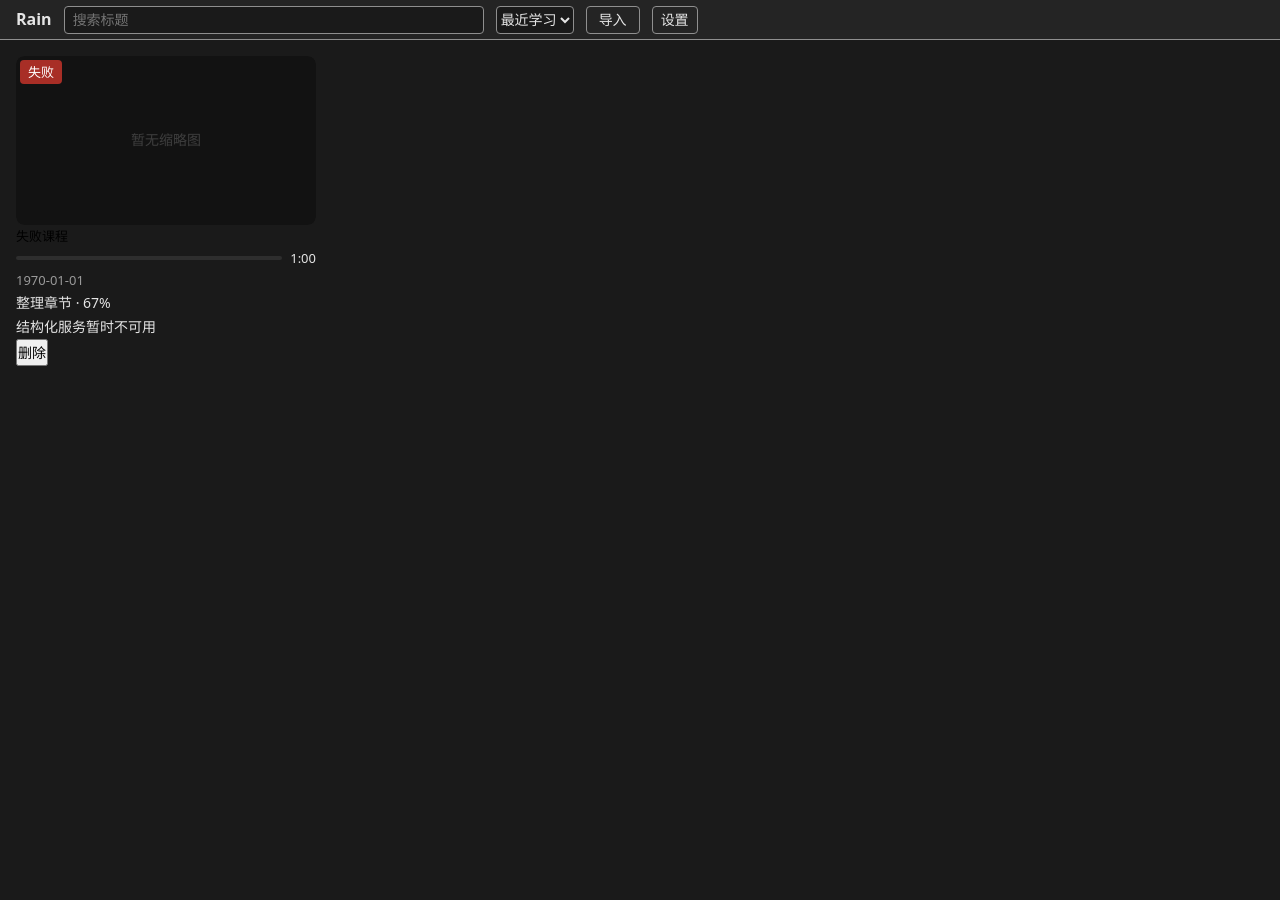
Scenario: AC-LV-19 and AC-LV-20 import task details › opens a failed task without retrying it or changing its persisted failure
Step 1. Click the text "失败课程" → (42, 236), box [16, 227, 68, 245]
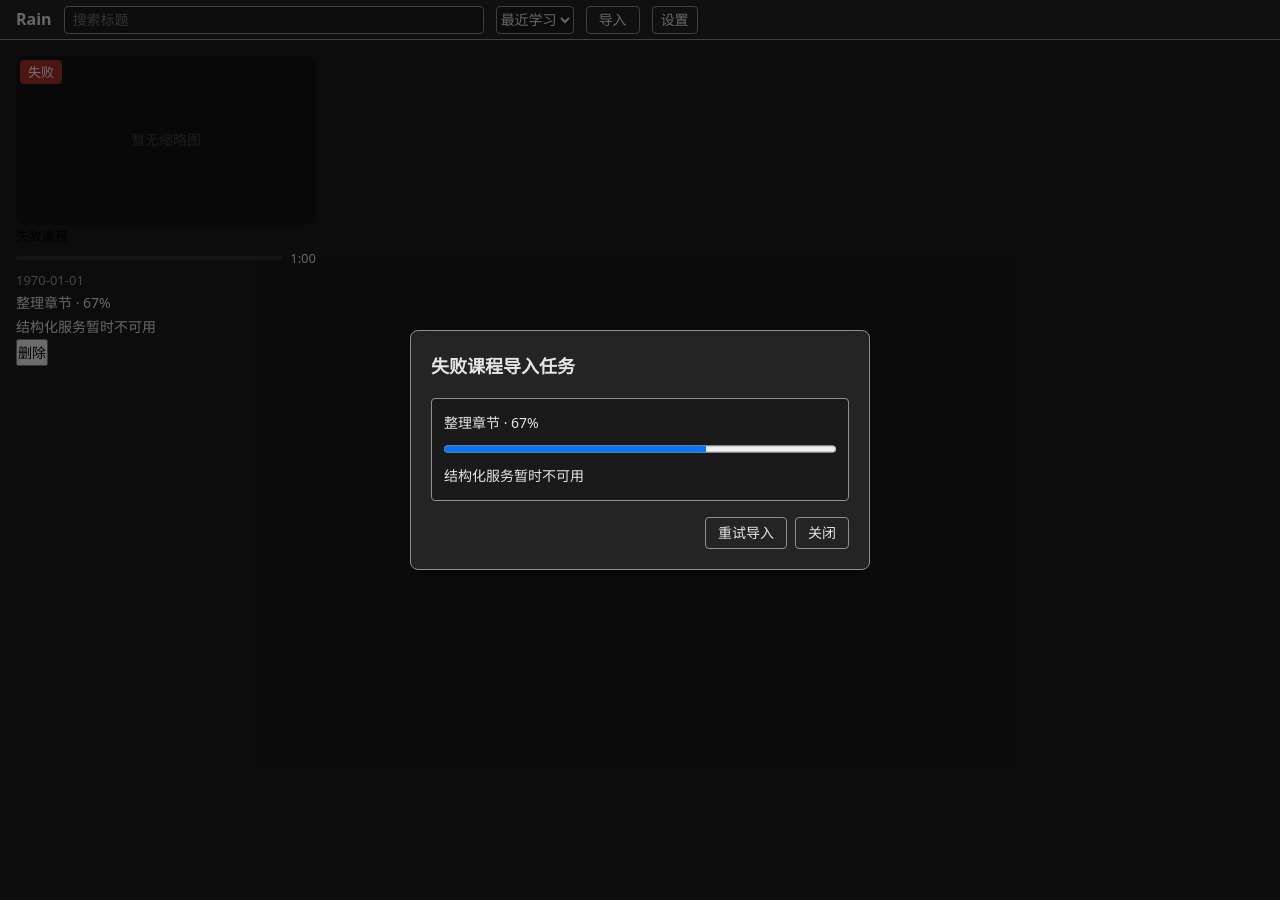
expect the element with test id "card-failed-task" is shown: met, box [16, 56, 316, 366]
expect the dialog "失败课程导入任务" shows "结构化服务暂时不可用": met, box [444, 466, 584, 485]
